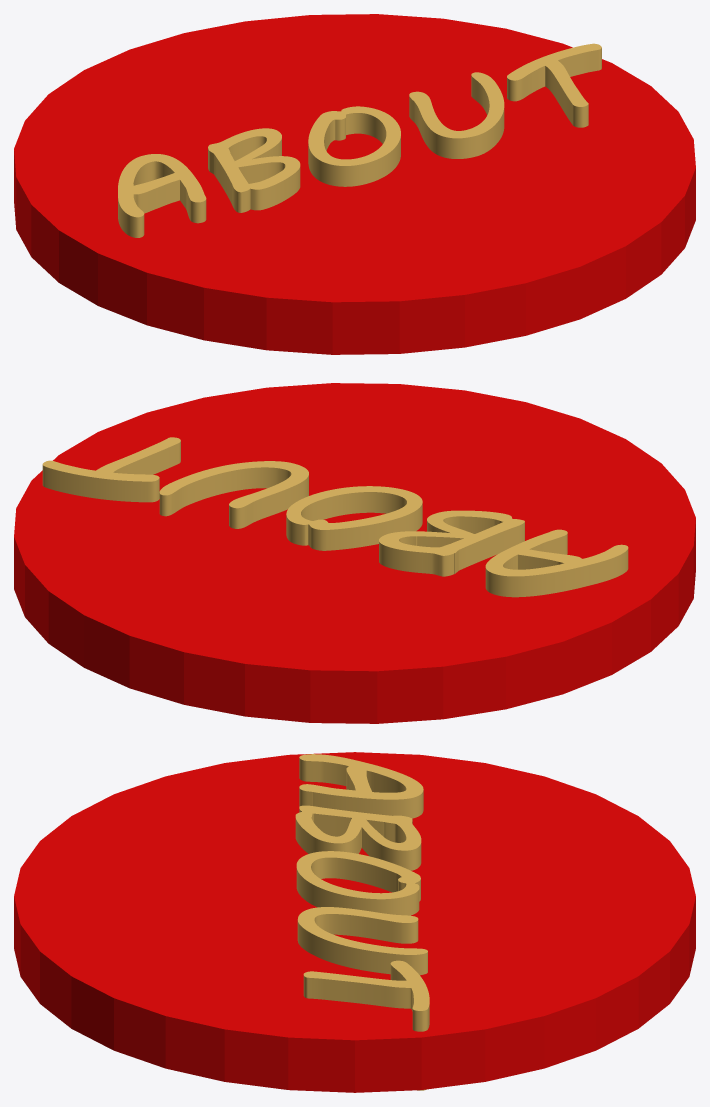
The model's file is ABOUT.glb.
3 views of the same model, one above another, from view 1: azimuth 30°, elevation 25°; view 2: azimuth 150°, elevation 25°; view 3: azimuth 270°, elevation 25° (orthographic).
Parts seen in each view (by area): view 1: Circle; view 2: Circle; view 3: Circle.
Part boxes in pixels (x1,y1,x2,y2): Circle: (14,14,695,354); Circle: (14,383,695,723); Circle: (14,752,695,1092).
Size of the model in its own units: 2 by 0.2581 by 2.
